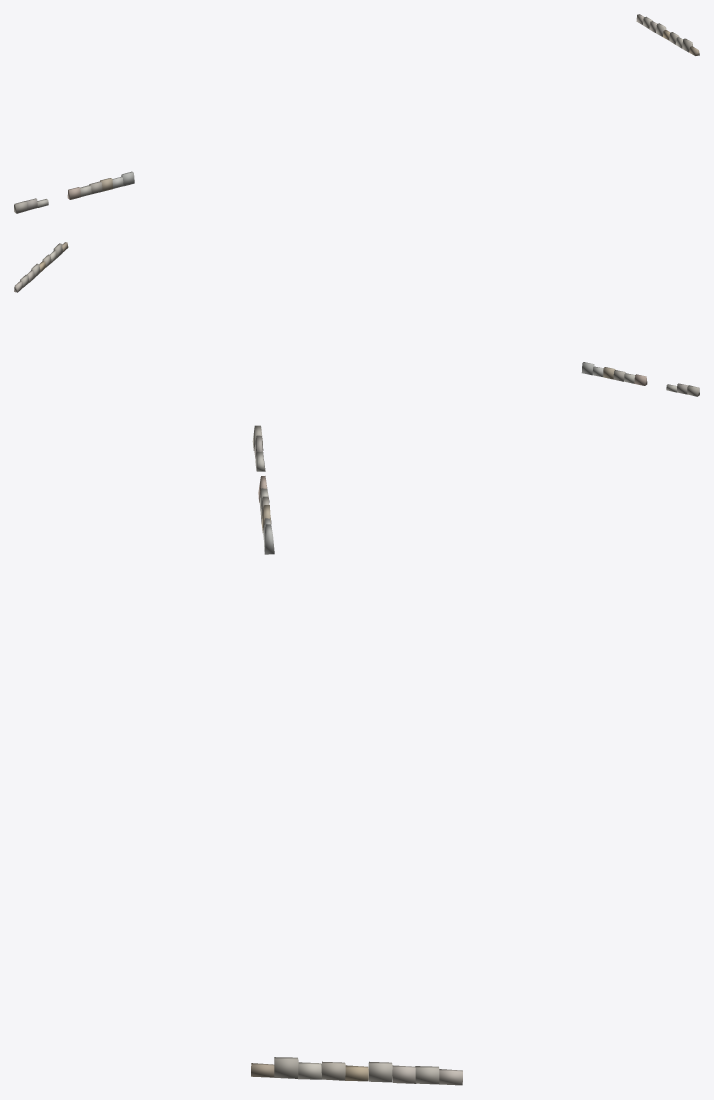
File: farm_37_21_far.glb
3 views of the same model, one above another, from view 1: azimuth 30°, elevation 25°; view 2: azimuth 150°, elevation 25°; view 3: azimuth 270°, elevation 25° (orthographic). The views are drawn at different scales.
Parts seen in each view (by area): view 1: geometry_0; view 2: geometry_0; view 3: geometry_0.
Part boxes in pixels (x1,y1,x2,y2): geometry_0: (14,14,699,213); geometry_0: (14,242,699,396); geometry_0: (251,425,462,1085).
Bounding box in the file's own units: 98.57 × 3.16 × 14.22.
